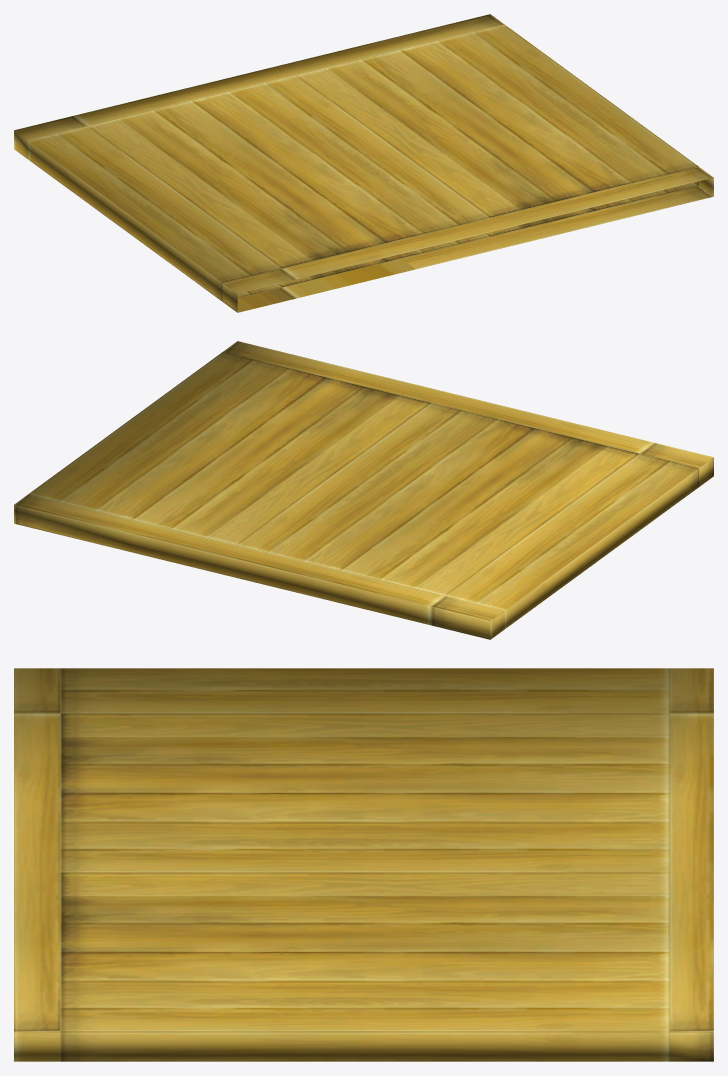
Rendered from HTOWN01_MILLPLATFORM03.fbx.
3 renders of one model, top to bottom at view 1: azimuth 30°, elevation 25°; view 2: azimuth 150°, elevation 25°; view 3: azimuth 270°, elevation 25°, orthographic. The views are drawn at different scales.
Visible parts, largest first — view 1: HTOWN01_MILLPLATFORM03; view 2: HTOWN01_MILLPLATFORM03; view 3: HTOWN01_MILLPLATFORM03.
Part boxes in pixels (x1,y1,x2,y2): HTOWN01_MILLPLATFORM03: (14, 14, 713, 312); HTOWN01_MILLPLATFORM03: (14, 341, 713, 639); HTOWN01_MILLPLATFORM03: (14, 668, 713, 1061).
Size of the model in its own units: 49950 by 1897 by 40596.
Materials: 1 (1 with a texture image).
